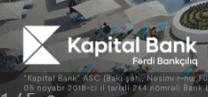Kapital Bank: (20, 24, 62, 66)
